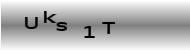1: (82, 24, 95, 39)
T: (101, 20, 116, 35)
U: (23, 15, 39, 29)
k: (42, 10, 57, 24)
s: (53, 21, 69, 31)
